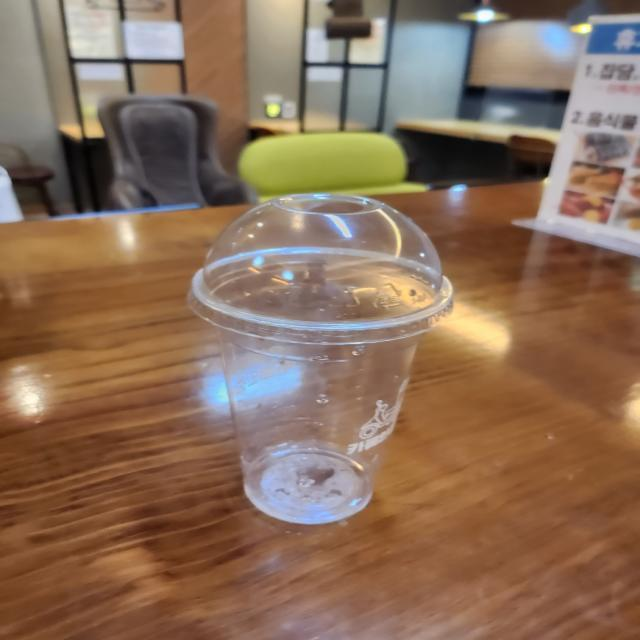plastic_cup_lid: (186, 184, 469, 352)
